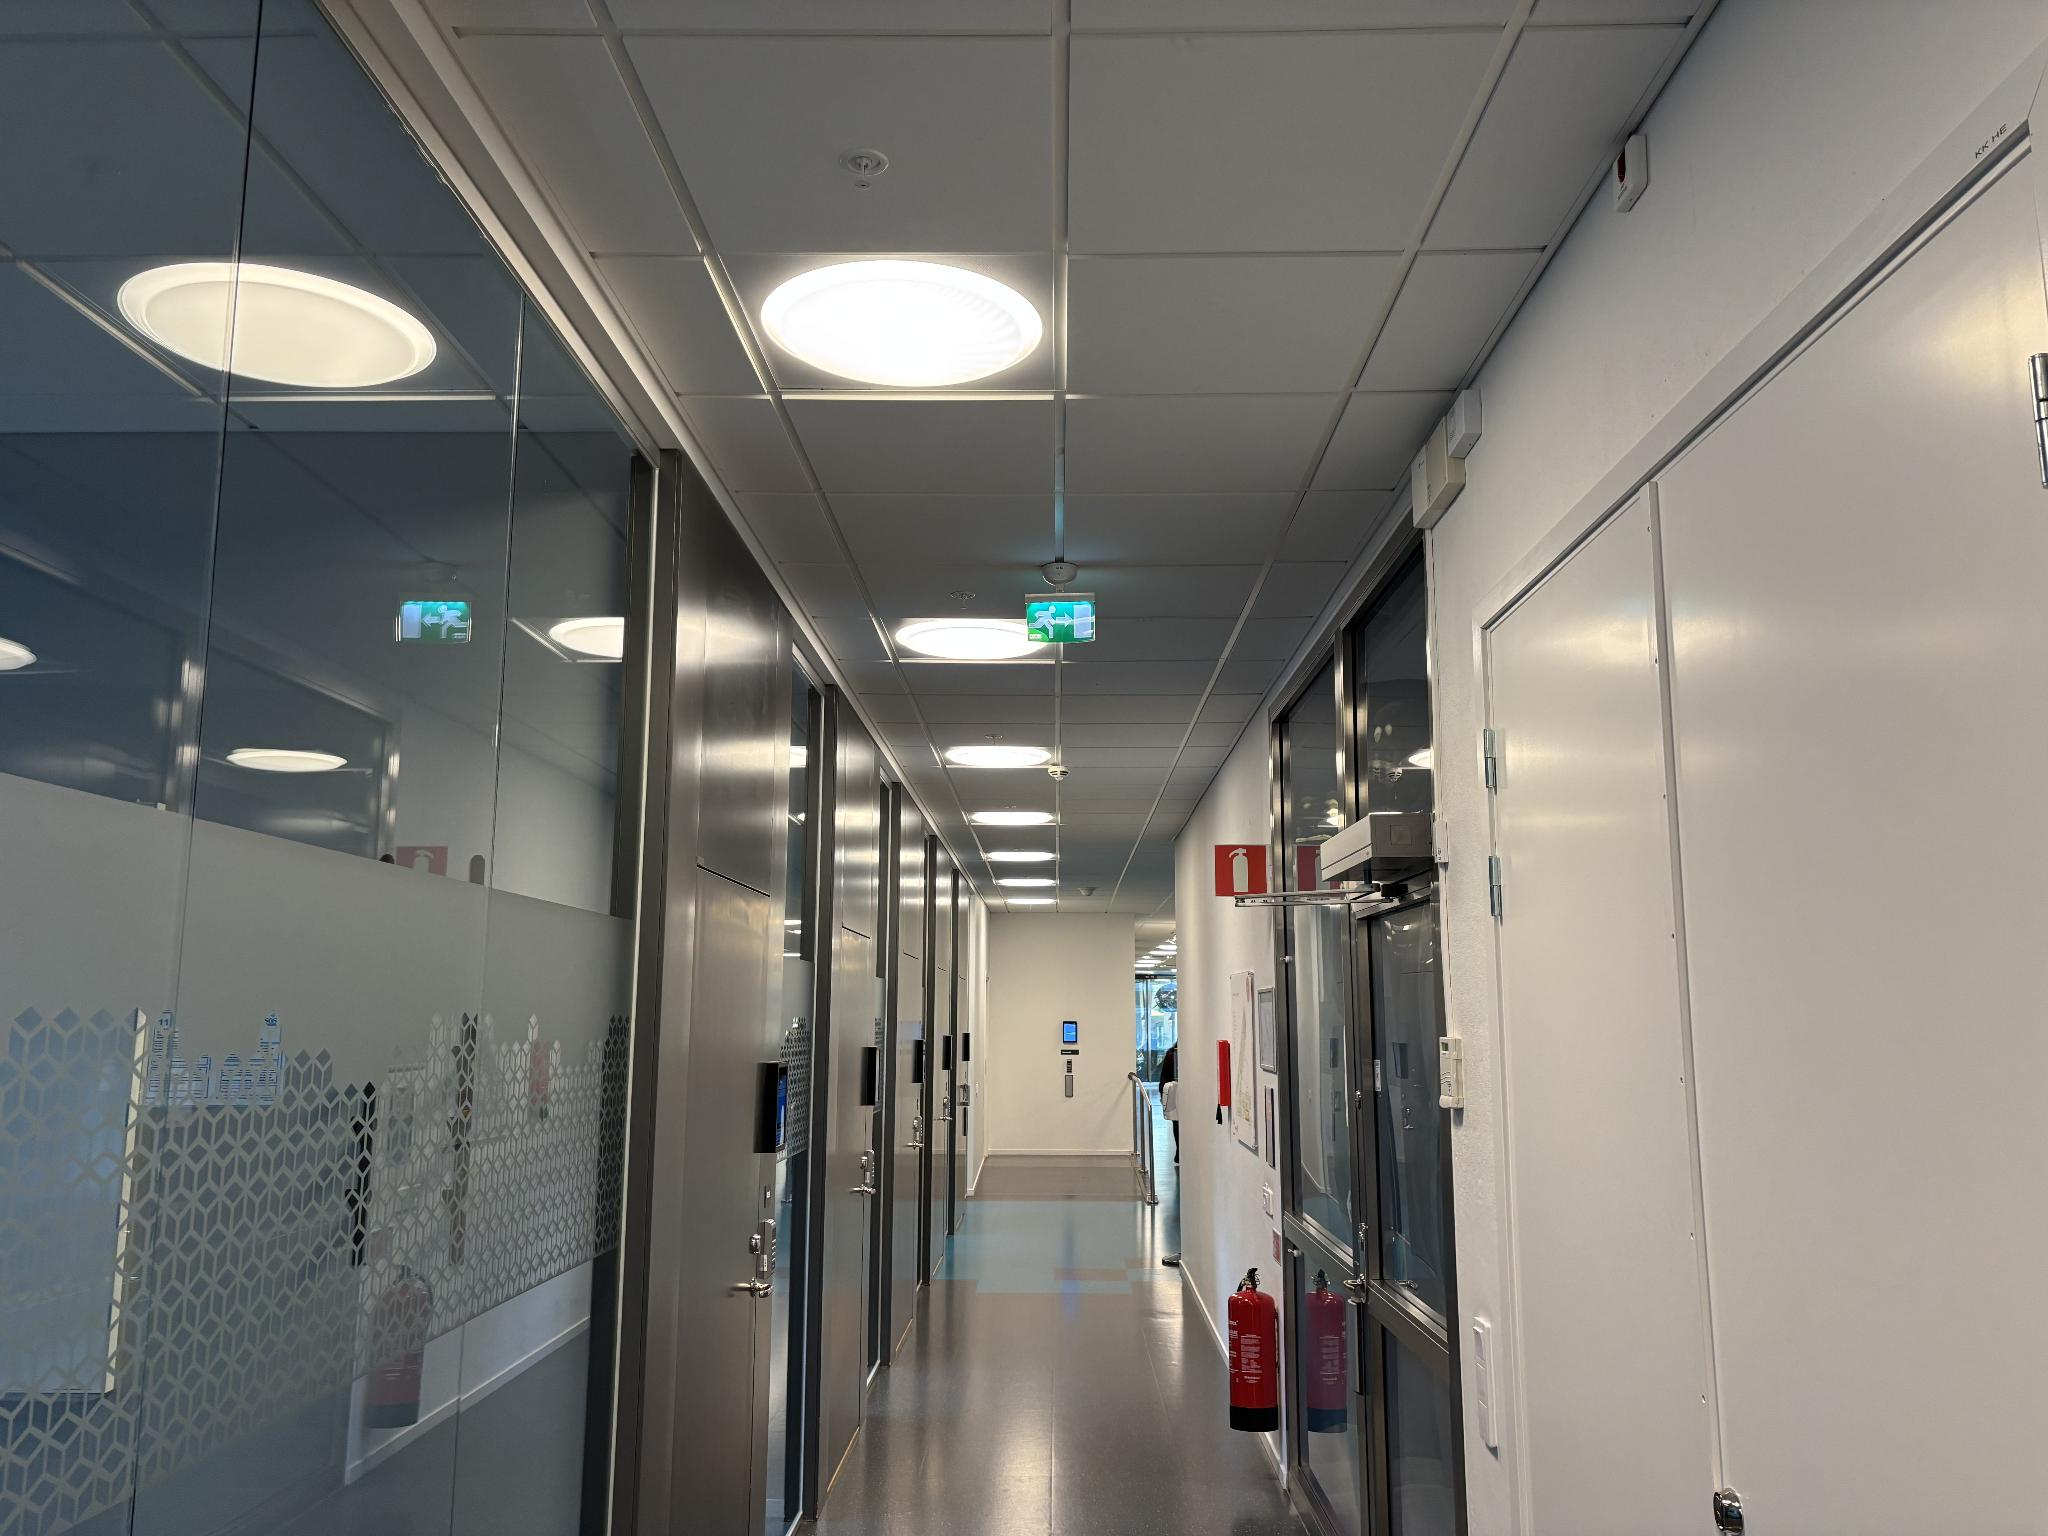exit_sign: (1026, 600, 1103, 642)
